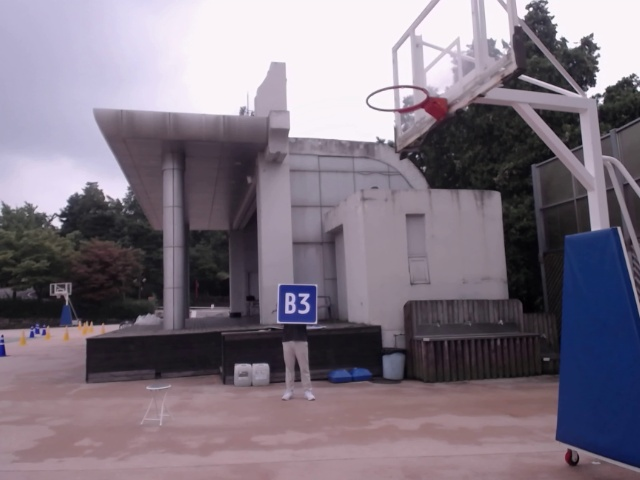delivery_b3: (276, 283, 318, 325)
